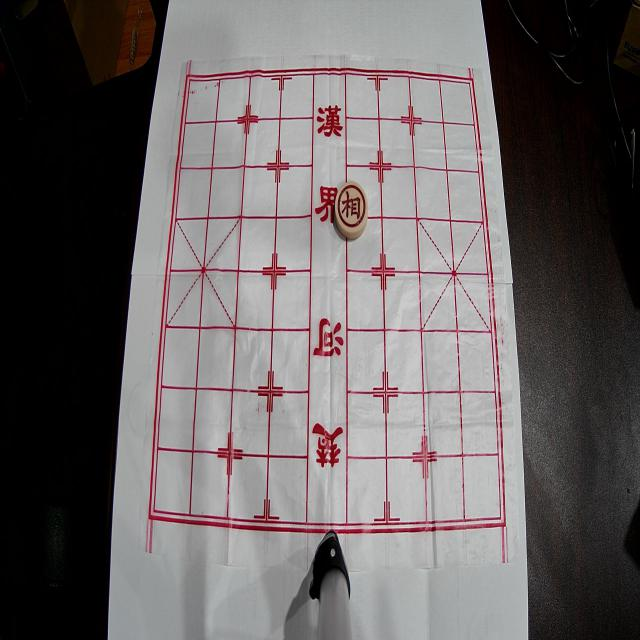red-elephant: (335, 181, 368, 239)
